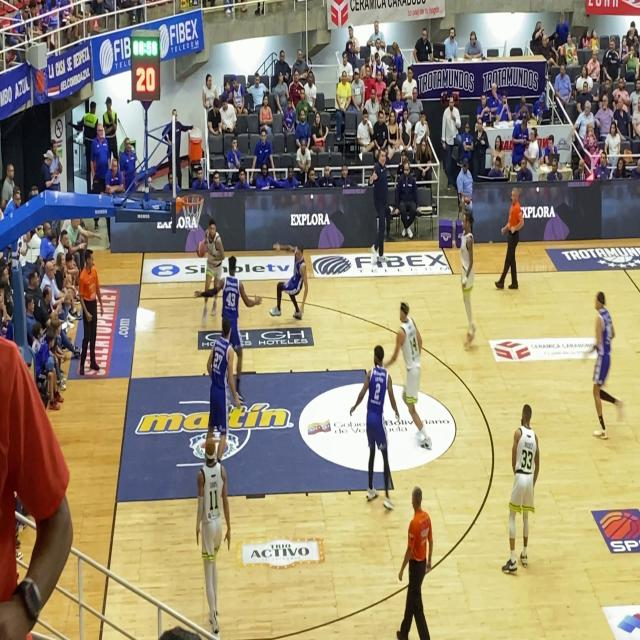Ball: (190, 233, 208, 265)
referee: (386, 478, 439, 640), (70, 237, 105, 385), (488, 180, 526, 300)
team1: (496, 394, 539, 579), (193, 430, 230, 635), (388, 296, 434, 454), (450, 205, 480, 354), (191, 205, 223, 319)
team2: (348, 338, 394, 516), (581, 282, 627, 452), (196, 310, 235, 431), (271, 230, 311, 339), (215, 240, 243, 350)
ubasket: (178, 185, 208, 237)
